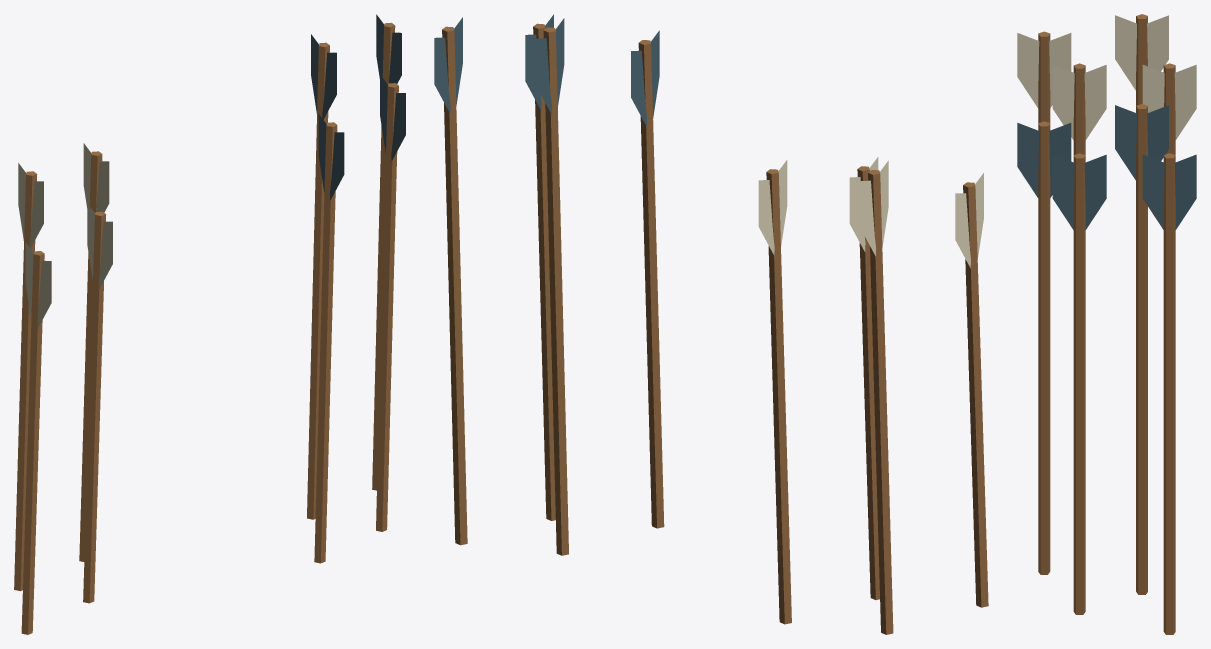
The model's file is w3b-refill-display-stock.glb.
3 views of the same model, side by side, from view 1: azimuth 30°, elevation 25°; view 2: azimuth 150°, elevation 25°; view 3: azimuth 270°, elevation 25° (orthographic). The views are drawn at different scales.
Visible parts, largest first — view 1: w3b-refill-display-stock; view 2: w3b-refill-display-stock; view 3: w3b-refill-display-stock.
Part boxes in pixels (bbox=[...]): w3b-refill-display-stock: bbox=[14, 14, 405, 634]; w3b-refill-display-stock: bbox=[434, 14, 988, 634]; w3b-refill-display-stock: bbox=[1017, 14, 1196, 634].
Bounding box in the file's own units: 0.87 × 0.9073 × 0.299.
